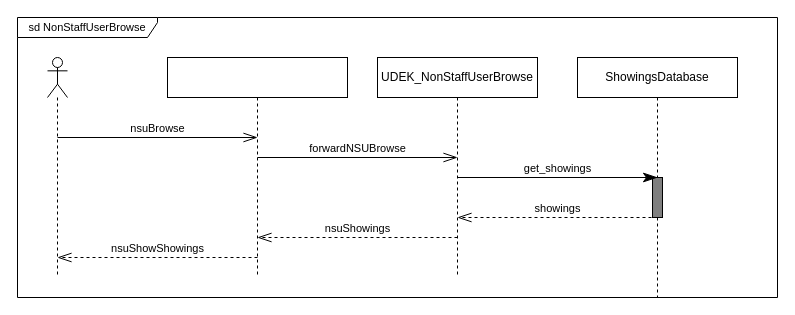
Image size: 795x315. Some labels were removed from this diagram. Here are the shapes that lost their labels. From the top down, the box of each, then its label:
(46, 56, 68, 278): NonStaffUser
(166, 56, 348, 278): WebpageNonStaffUserBrowse
